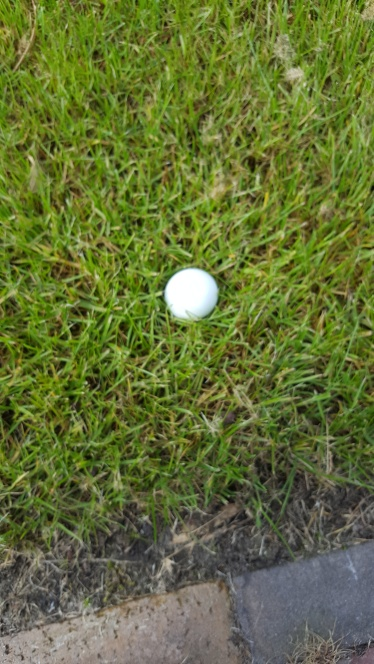egg: (164, 268, 219, 319)
